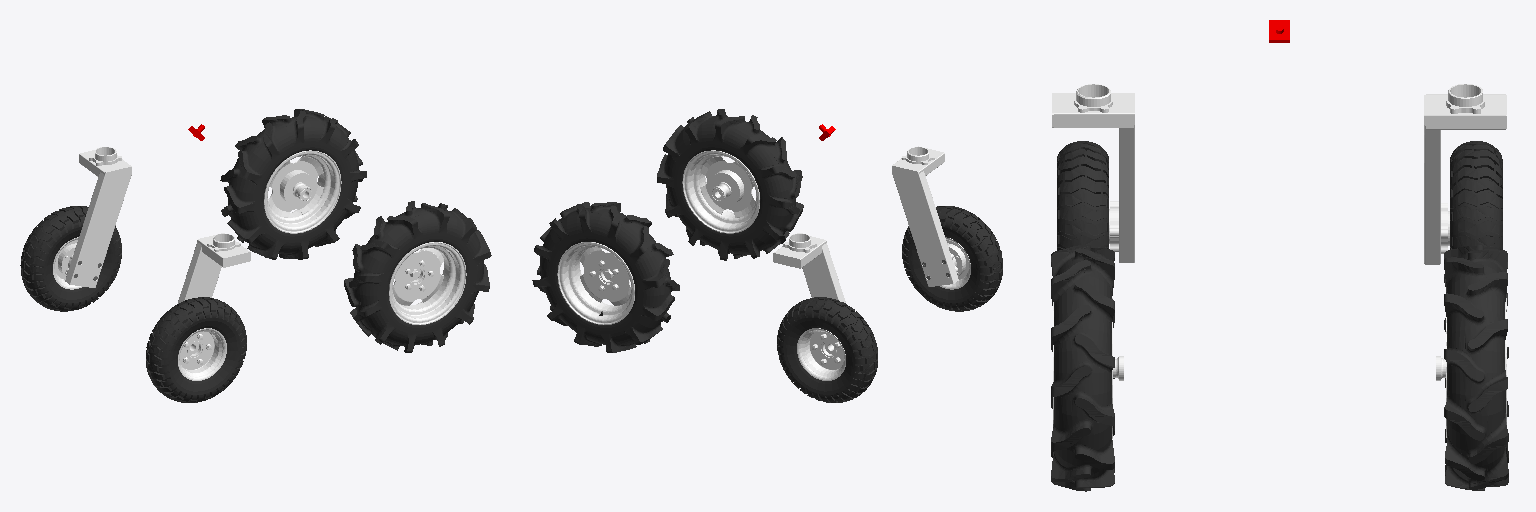
URDF robot description (soybot):
<?xml version="1.0"?>
<robot name="soybot">

#### LINKS #####################################################

<link name="base_link">
	<visual>
		<origin rpy="0 0 0" xyz="0 0 0"/>
		<geometry>
			<mesh filename = 
			"package://soybot_model/models/gantry_soy.dae" />
		</geometry>
	</visual>
	<collision>
		<origin rpy="0 0 0" xyz="0 0 0"/>
		<geometry>
			<mesh filename = 
			"package://soybot_model/models/collision_gantry_soy.dae" />
		</geometry>
	</collision>
	<inertial>
		<origin rpy="0 0 0" xyz="-0.33 0 0.9"/>
		<mass value="57.53"/>
		<inertia 
		ixx = "06.67" ixy = "-00.10" ixz = "0.03" 
		iyy = "04.86" iyz = "0.00" 
		izz = "11.26"/>
	</inertial>
</link>

<link name="drivetrain_L">
	<visual>
		<origin rpy="0 0 0" xyz="0 0 0"/>
		<geometry>
			<mesh filename = 
			"package://soybot_model/models/drivetrain_L.dae" />
		</geometry>
	</visual>
	<collision>
		<origin rpy="0 0 0" xyz="0 0 0"/>
		<geometry>
			<mesh filename = 
			"package://soybot_model/models/collision_drivetrain.dae" />
		</geometry>
	</collision>
	<inertial>
		<origin rpy="0 0 0" xyz="-0.21 -0.00 0.66"/>
		<mass value="57.53"/>
		<inertia 
		ixx = "01.71" ixy = "0.04" ixz = "-0.93" 
		iyy = "07.20" iyz = "-0.00" 
		izz = "06.01"/>
	</inertial>
</link>  

<link name="drivetrain_R">
	<visual>
		<origin rpy="0 0 0" xyz="0 0 0"/>
		<geometry>
			<mesh filename = 
			"package://soybot_model/models/drivetrain_R.dae" />
		</geometry>
	</visual>
	<collision>
		<origin rpy="0 0 0" xyz="0 0 0"/>
		<geometry>
			<mesh filename = 
			"package://soybot_model/models/collision_drivetrain.dae" />
		</geometry>
	</collision>
	<inertial>
		<origin rpy="0 0 0" xyz="-0.21 0 0.66"/>
		<mass value="55.71"/>
		<inertia 
		ixx = "01.71" ixy = "0.04" ixz = "-0.93" 
		iyy = "0.20" iyz = "-0.00" 
		izz = "06.01"/>
	</inertial>
</link>  

<link name="wheel_12_L">
	<visual>
		<origin rpy="0 0 0" xyz="0 0 0"/>
		<geometry>
			<mesh filename = 
			"package://soybot_model/models/wheel_12.dae" />
		</geometry>
	</visual>
	<collision>
		<origin rpy="0 0 0" xyz="0 0 0"/>
		<geometry>
			<mesh filename =
			"package://soybot_model/models/collision_wheel_12.dae"/>
		</geometry>
	</collision>
	<inertial>
		<origin rpy="0 0 0" xyz="0.00 0.01 0.00"/>
		<mass value=" 18.54"/>
		<inertia
		ixx = "0.28" ixy = "-0.00" ixz = "0.00"
		iyy = "0.49" iyz = "-0.00" 
		izz = "0.28"/>
	</inertial>
</link>

<link name="wheel_12_R">
	<visual>
		<origin rpy="0 0 0" xyz="0 0 0"/>
		<geometry>
			<mesh filename = 
			"package://soybot_model/models/wheel_12.dae" />
		</geometry>
	</visual>
	<collision>
		<origin rpy="0 0 0" xyz="0 0 0"/>
		<geometry>
			<mesh filename =
			"package://soybot_model/models/collision_wheel_12.dae"/>
		</geometry>
	</collision>
	<inertial>
		<origin rpy="0 0 0" xyz="0.00 0.01 0.00"/>
		<mass value=" 18.54"/>
		<inertia 
		ixx = "0.28" ixy = "-0.00" ixz = "0.00" 
		iyy = "0.49" iyz = "-0.00" 
		izz = "0.28"/>
	</inertial>
</link>

<link name="castor_L">
	<visual>
		<origin rpy="0 0 0" xyz="0 0 0"/>
		<geometry>
			<mesh filename = 
			"package://soybot_model/models/castor_L.dae" />
		</geometry>
	</visual>
	<collision>
		<origin rpy="0 0 0" xyz="0 0 0"/>
		<geometry>
			<mesh filename = 
			"package://soybot_model/models/collision_castor.dae" />
		</geometry>
	</collision>
	<inertial>
		<origin rpy="0 0 0" xyz="-0.06 -0.05 0.42"/>
		<mass value="06.29"/>
		<inertia 
		ixx = "0.18" ixy = "0.01" ixz = "0.06" 
		iyy = "0.19" iyz = "0.02" 
		izz = "0.05"/>
	</inertial>
</link>

<link name="castor_R">
	<visual>
		<origin rpy="0 0 0" xyz="0 0 0"/>
		<geometry>
			<mesh filename = 
			"package://soybot_model/models/castor_R.dae" />
		</geometry>
	</visual>
	<collision>
		<origin rpy="0 0 0" xyz="0 0 0"/>
		<geometry>
			<mesh filename = 
			"package://soybot_model/models/collision_castor.dae" />
		</geometry>
	</collision>
	<inertial>
		<origin rpy="0 0 0" xyz=" -0.06 -0.05 0.42"/>
		<mass value="06.29"/>
		<inertia 
		ixx = "0.18" ixy = "0.01" ixz = "0.06" 
		iyy = "0.19" iyz = "0.02" 
		izz = "0.05"/>
	</inertial>
</link>

<link name="wheel_8_L">
	<visual>
		<origin rpy="0 0 0" xyz="0 -0.026 0"/>
		<geometry>
			<mesh filename = 
			"package://soybot_model/models/wheel_8.dae" />
		</geometry>
	</visual>
	<collision>
		<origin rpy="0 0 0" xyz="0 -0.026 0"/>
		<geometry>
			<mesh filename = 
			"package://soybot_model/models/collision_wheel_8.dae" />
		</geometry>
	</collision>
	<inertial>
		<origin rpy="0 0 0" xyz="-0.00  -0.02 0.00"/>
		<mass value="07.77"/>
		<inertia 
		ixx = "0.05" ixy = "-0.0" ixz = "0.00" 
		iyy = "0.09" iyz = "0.00" 
		izz = "0.05"/>
	</inertial>
</link>

<link name="wheel_8_R">
	<visual>
		<origin rpy="0 0 0" xyz="0 -0.026 0"/>
		<geometry>
			<mesh filename = 
			"package://soybot_model/models/wheel_8.dae" />
		</geometry>
	</visual>
	<collision>
		<origin rpy="0 0 0" xyz="0 -0.026 0"/>
		<geometry>
			<mesh filename = 
			"package://soybot_model/models/collision_wheel_8.dae" />
		</geometry>
	</collision>
	<inertial>
		<origin rpy="0 0 0" xyz="-0.00  -0.02 0.00"/>
		<mass value="07.77"/>
		<inertia 
		ixx = "0.05" ixy = "-0.00" ixz = "0.00" 
		iyy = "0.09" iyz = "0.00" 
		izz = "0.05"/>
	</inertial>
</link>

<link name="center_camera">

</link>

<link name="rear_camera">
	<visual>
		<origin rpy="0 0 0" xyz="0 0 0"/>
		<geometry>
			<box size="0.02 0.05 0.05"/>
		</geometry>
		<material name="red">
			<color rgba="1 0 0 1"/>
		</material>
	</visual>
	<visual>
		<origin rpy="0 1.5707 0" xyz="0.01 0 0"/>
		<geometry>
			<cylinder length="0.01" radius="0.00625"/>
		</geometry>
		<material name="red">
			<color rgba="1 0 0 1"/>
		</material>
	</visual>
	<visual>
		<origin rpy="0 1.5707 0" xyz="-0.025 0 0"/>
		<geometry>
			<cylinder length="0.03" radius="0.01"/>
		</geometry>
		<material name="red">
			<color rgba="1 0 0 1"/>
		</material>
	</visual>
	<collision>
		<origin rpy="0 0 0" xyz="0 0 0"/>
		<geometry>
			<box size="0.02 0.05 0.05"/>
		</geometry>
	</collision>
	<collision>
		<origin rpy="0 1.5707 0" xyz="0.01 0 0"/>
		<geometry>
			<cylinder length="0.01" radius="0.00625"/>
		</geometry>
		<material name="red">
			<color rgba="1 0 0 1"/>
		</material>
	</collision>
	<collision>
		<origin rpy="0 1.5707 0" xyz="-0.025 0 0"/>
		<geometry>
			<cylinder length="0.03" radius="0.01"/>
		</geometry>
		<material name="red">
			<color rgba="1 0 0 1"/>
		</material>
	</collision>
</link>



#### JOINTS ####################################################

<!-- Base Link -->
<joint name="drivetrain_L_joint" type="fixed">
	<parent link="base_link"/>
	<child link="drivetrain_L"/>
	<origin rpy="0  0  0 " xyz="0 0.45 0"/>
</joint>

<joint name="drivetrain_R_joint" type="fixed">
	<parent link="base_link"/>
	<child link="drivetrain_R"/>
	<origin rpy="0  0  0 " xyz="0 -0.45 0"/>
</joint>


<!-- Front Wheels -->
<joint name="L_wheel" type="continuous">
	<parent link="drivetrain_L"/>
	<child link="wheel_12_L"/>
	<axis xyz="0 -1 0"/>
	<origin rpy="3.1459 0 0 " xyz="0 0.026 0.2928"/>
	<dynamics damping="0.13" friction="0.00006"/>
</joint>

<joint name="R_wheel" type="continuous">
	<parent link="drivetrain_R"/>
	<child link="wheel_12_R"/>
	<axis xyz="0 1 0"/>
	<origin rpy="0 0 0 " xyz="0 -0.026 0.2928"/>
	<dynamics damping="0.13" friction="0.00006"/>
</joint>

<!-- Castor Arm -->
<joint name="L_castor" type="continuous">
	<parent link="drivetrain_L"/>
	<child link="castor_L"/>
	<axis xyz="0 0 1"/>
	<origin rpy="0 0 0 " xyz="-0.84 0 0"/>
	<dynamics damping="0.13" friction="0.00006"/>
</joint>

<joint name="R_castor" type="continuous">
	<parent link="drivetrain_R"/>
	<child link="castor_R"/>
	<axis xyz="0 0 1"/>
	<origin rpy="0 0 0 " xyz="-0.84 0 0"/>
	<dynamics damping="0.13" friction="0.00006"/>
</joint>

<!-- Castor Wheels -->
<joint name="L_castor_wheel" type="continuous">
	<parent link="castor_L"/>
	<child link="wheel_8_L"/>
	<axis xyz="0 -1 0"/>
	<origin rpy="3.1459 0 0 " xyz="-0.136 0 0.2115"/>
	<dynamics damping="0.13" friction="0.00006"/>
</joint>

<joint name="R_castor_wheel" type="continuous">
	<parent link="castor_R"/>
	<child link="wheel_8_R"/>
	<axis xyz="0 1 0"/>
	<origin rpy="0 0 0 " xyz="-0.136 0 0.2115"/>
	<dynamics damping="0.13" friction="0.00006"/>
</joint>	

<!-- Cameras -->
<joint name="center_camera" type="fixed">
	<parent link="base_link"/>
	<child link="center_camera"/>
	<axis xyz="0 1 0"/>
	<origin rpy="0 0.52 0" xyz="0.16 0 0.865"/>
	<!--origin rpy="0 1.5707 0" xyz="0.16 0 0.865"/-->
</joint>

<joint name="rear_camera" type="fixed">
	<parent link="base_link"/>
	<child link="rear_camera"/>
	<axis xyz="0 1 0"/>
	<origin rpy="0 0.707 3.1415" xyz="-0.7 0 0.865"/>
</joint>


#### PLUGINS ####################################################


<!-- Differential Driver Plugin -->
<gazebo>	
  <plugin name="differential_drive_controller" filename="libgazebo_ros_diff_drive.so">
    <alwaysOn>true</alwaysOn>
    <legacyMode>false</legacyMode>
    <updateRate>50</updateRate>
    <leftJoint>L_wheel</leftJoint>
    <rightJoint>R_wheel</rightJoint>
    <wheelSeparation>0.952</wheelSeparation>
    <wheelDiameter>0.5856</wheelDiameter>
    <torque>50</torque>
    <commandTopic>/soybot/cmd_vel</commandTopic>
    <odometryTopic>/odom</odometryTopic>
    <odometryFrame>/odom</odometryFrame>
    <robotBaseFrame>base_link</robotBaseFrame>
    <wheelTorque>90</wheelTorque>
  </plugin>  
</gazebo>

<!-- Cetral Camera Plugin -->
<gazebo reference="center_camera">
<sensor name="center_camera" type="camera">
  <update_rate>30.0</update_rate>
  <camera name="center_camera">
    <!--pose>0.0 0.21 0.0 0.0 -0.8 -1.570796327 </pose-->
    <pose>0 0 0 0 0 0</pose>
    <horizontal_fov>1.0471</horizontal_fov>
    <image>
      <width>640</width>
      <height>480</height>
      <format>R8G8B8</format>
    </image>
    <clip>
      <near>0.02</near>
      <far>300</far>
    </clip>
    <noise>
      <type>gaussian</type>
      <mean>0.0</mean>
      <stddev>0.007</stddev>
    </noise>
  </camera>
  <plugin filename="libgazebo_ros_camera.so" name="camera_controller">
    <alwaysOn>true</alwaysOn>
    <updateRate>0.0</updateRate>
    <cameraName>center</cameraName>
    <imageTopicName>image_raw</imageTopicName>
    <cameraInfoTopicName>camera_info</cameraInfoTopicName>
    <frameName>center_camera</frameName>
    <hackBaseline>0.07</hackBaseline>
    <distortionK1>0.0</distortionK1>
    <distortionK2>0.0</distortionK2>
    <distortionK3>0.0</distortionK3>
    <distortionT1>0.0</distortionT1>
    <distortionT2>0.0</distortionT2>
    <robotNamespace>/soybot/camera</robotNamespace>
  </plugin>
</sensor>
</gazebo>

<!-- Rear Camera Plugin -->
<gazebo reference="rear_camera">
<sensor name="rear_camera" type="camera">
  <update_rate>30.0</update_rate>
  <camera name="rear_camera">
    <!--pose>0.0 0.21 0.0 0.0 -0.8 -1.570796327 </pose-->
    <pose>0 0 0 0 0 0</pose>
    <horizontal_fov>1.0471</horizontal_fov>
    <image>
      <width>640</width>
      <height>480</height>
      <format>R8G8B8</format>
    </image>
    <clip>
      <near>0.02</near>
      <far>300</far>
    </clip>
    <noise>
      <type>gaussian</type>
      <mean>0.0</mean>
      <stddev>0.007</stddev>
    </noise>
  </camera>
  <plugin filename="libgazebo_ros_camera.so" name="camera_controller">
    <alwaysOn>true</alwaysOn>
    <updateRate>0.0</updateRate>
    <cameraName>rear</cameraName>
    <imageTopicName>image_raw</imageTopicName>
    <cameraInfoTopicName>camera_info</cameraInfoTopicName>
    <frameName>rear_camera</frameName>
    <hackBaseline>0.07</hackBaseline>
    <distortionK1>0.0</distortionK1>
    <distortionK2>0.0</distortionK2>
    <distortionK3>0.0</distortionK3>
    <distortionT1>0.0</distortionT1>
    <distortionT2>0.0</distortionT2>
    <robotNamespace>/soybot/camera</robotNamespace>
  </plugin>
</sensor>
</gazebo>



</robot>

--- Facts derived from the render (not from the file) ---
Views: 3 orthographic renders of the robot side by side, from view 1: azimuth 30°, elevation 25°; view 2: azimuth 150°, elevation 25°; view 3: azimuth 270°, elevation 25°.
Robot: soybot — 11 links, 10 joints (6 continuous, 4 fixed); root link base_link; default pose: every joint at zero.
Links seen in each view (by area): view 1: wheel_12_R, wheel_12_L, wheel_8_R, wheel_8_L, castor_L, castor_R; view 2: wheel_12_L, wheel_12_R, wheel_8_L, wheel_8_R, castor_R, castor_L; view 3: wheel_12_L, wheel_12_R, castor_L, castor_R, wheel_8_L, wheel_8_R.
Link boxes in pixels (x1,y1,x2,y2): wheel_12_R: (344, 201, 491, 352); wheel_12_L: (220, 109, 366, 259); wheel_8_R: (146, 297, 246, 402); wheel_8_L: (20, 206, 121, 311); castor_L: (65, 147, 131, 287); castor_R: (178, 233, 250, 303); wheel_12_L: (532, 202, 679, 352); wheel_12_R: (657, 109, 803, 260); wheel_8_L: (777, 297, 877, 402); wheel_8_R: (902, 206, 1002, 311); castor_R: (892, 146, 958, 286); castor_L: (773, 233, 845, 302); wheel_12_L: (1436, 245, 1508, 490); wheel_12_R: (1051, 245, 1123, 491); castor_L: (1424, 84, 1506, 264); castor_R: (1052, 84, 1134, 262); wheel_8_L: (1450, 141, 1502, 249); wheel_8_R: (1057, 141, 1108, 250).
Bounding box of the posed robot: 1.49 × 1.11 × 0.9036 m (x, y, z).
6 mesh visuals loaded from 7 distinct referenced files (4 Collada DAE); not drawn: 3 (reference not matched to a file when rendering).